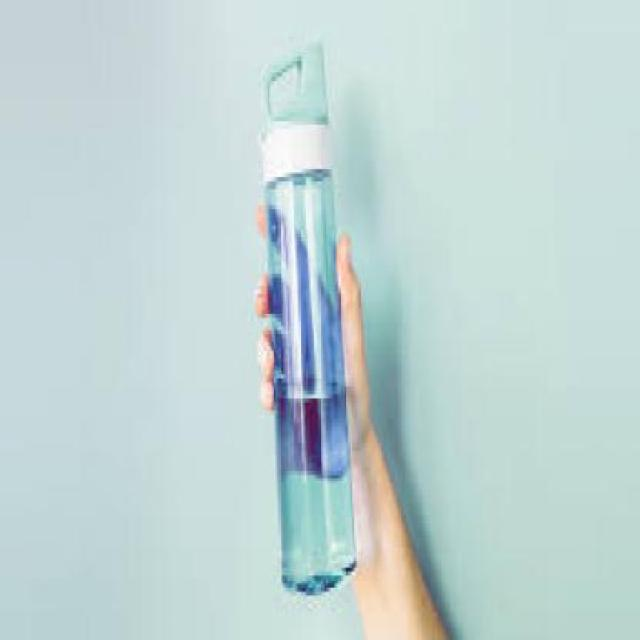Drinking: (253, 40, 369, 608)
